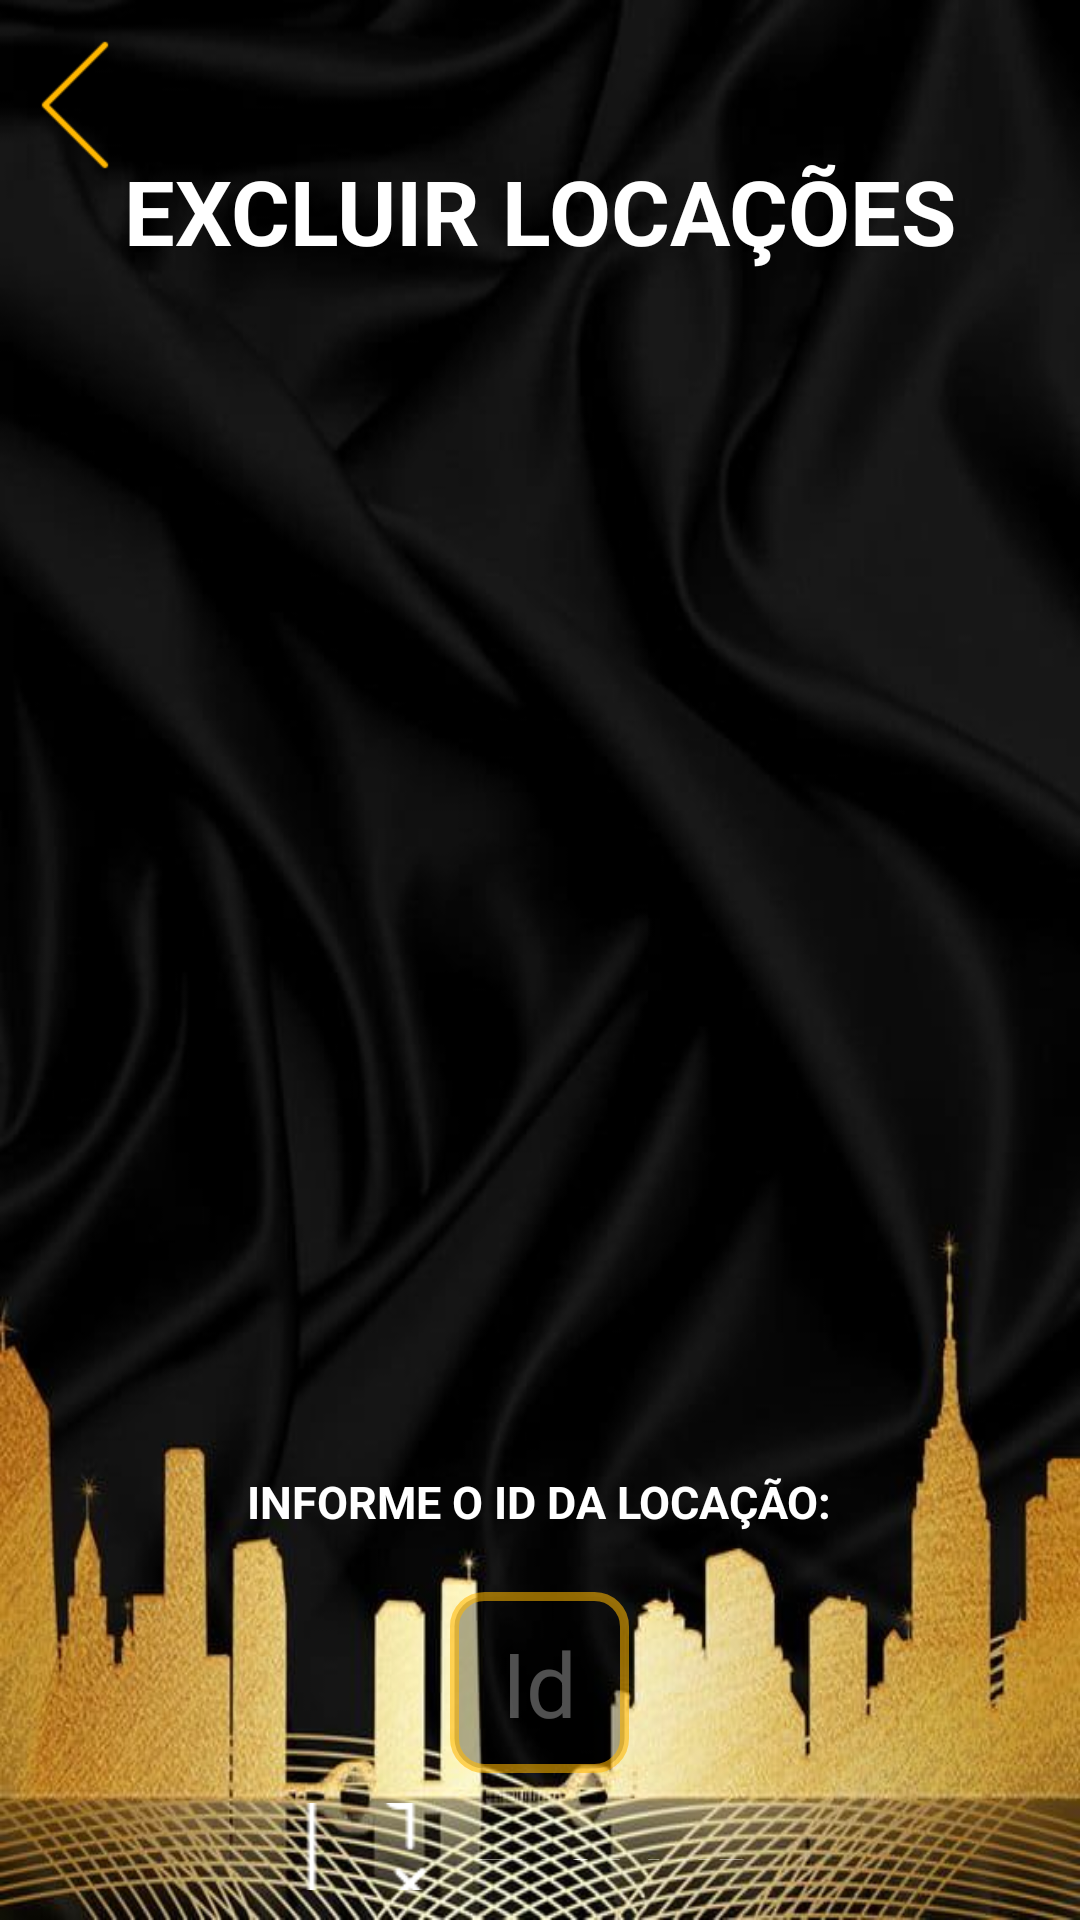

Screen size 1080*1920. Icon name, then its center in pixels as [x,y]:
back: [75,105]
